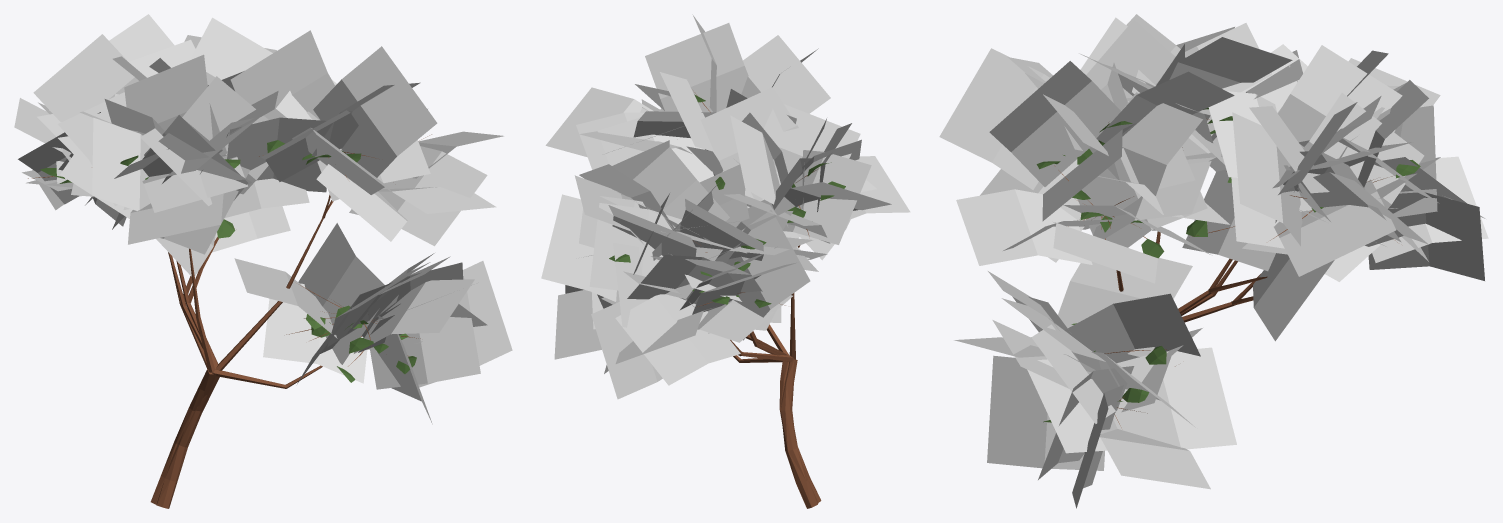
Rendered from Arbousier_Incline_LOD2.fbx.
The picture shows the model from 3 angles, left to right: view 1: azimuth 30°, elevation 25°; view 2: azimuth 150°, elevation 25°; view 3: azimuth 270°, elevation 25°; orthographic projection. The views are drawn at different scales.
Parts seen in each view (by area): view 1: Arbousier_Incline_LOD2; view 2: Arbousier_Incline_LOD2; view 3: Arbousier_Incline_LOD2.
Part boxes in pixels (left/top/right/bottom): Arbousier_Incline_LOD2: left=14, top=14, right=512, bottom=508; Arbousier_Incline_LOD2: left=541, top=14, right=910, bottom=508; Arbousier_Incline_LOD2: left=939, top=14, right=1488, bottom=508.
Bounding box in the file's own units: 367 × 412 × 409.
